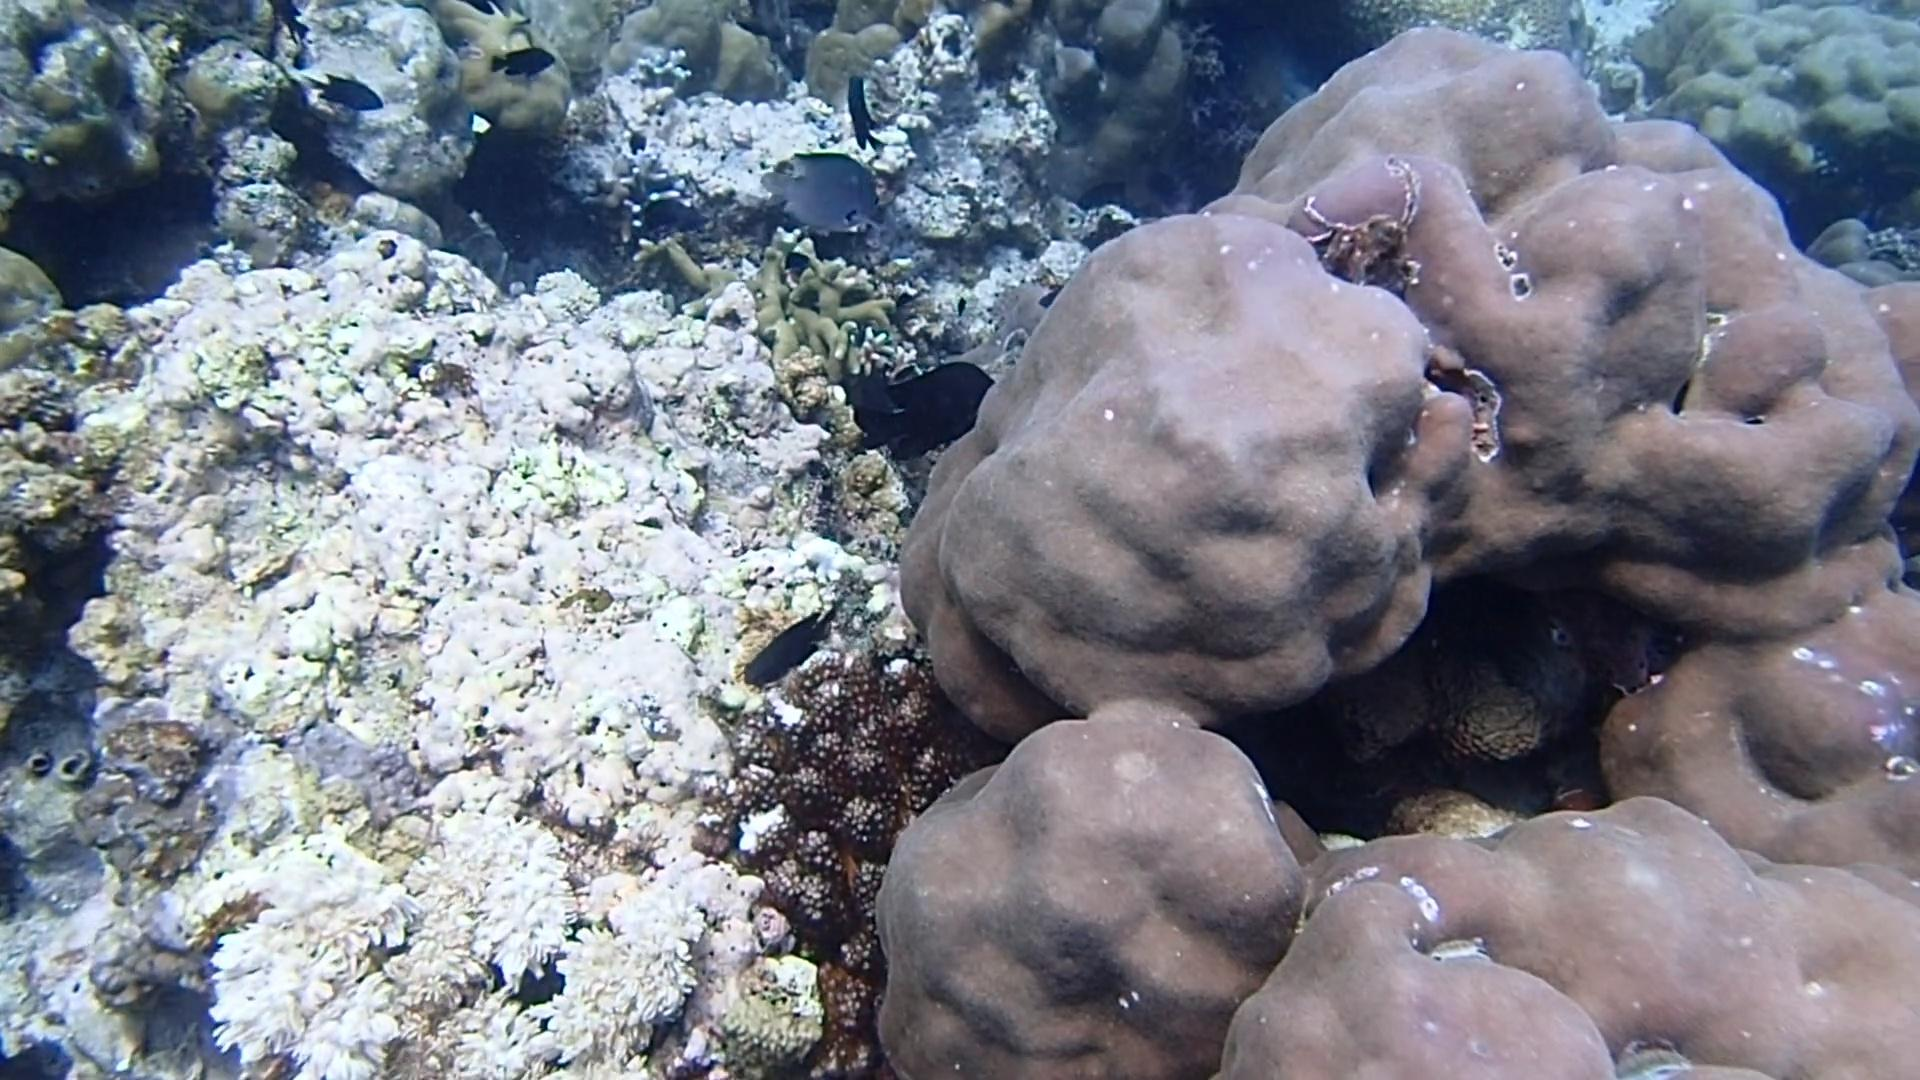Dark Fish: (844, 355, 1005, 462), (736, 593, 840, 703), (301, 63, 390, 125), (840, 67, 893, 157), (634, 189, 711, 243), (481, 37, 563, 84)
Light Fish - Dark Fin: (757, 148, 890, 236)
